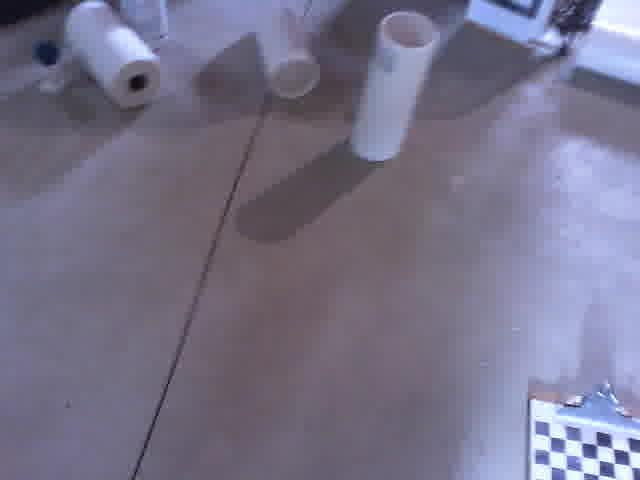coral: (348, 0, 445, 166), (248, 0, 326, 106), (571, 17, 640, 92)
